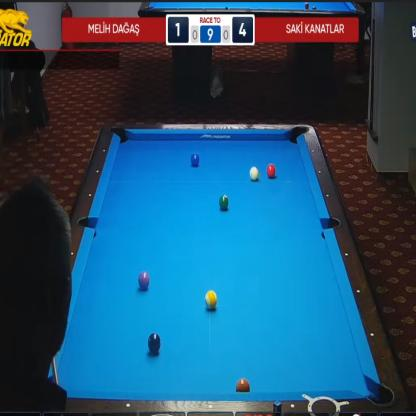Ball: (148, 332, 162, 354), (205, 290, 217, 310), (138, 272, 150, 290), (235, 378, 250, 392), (190, 153, 200, 167), (266, 164, 276, 178), (219, 195, 228, 210), (250, 166, 258, 182)
